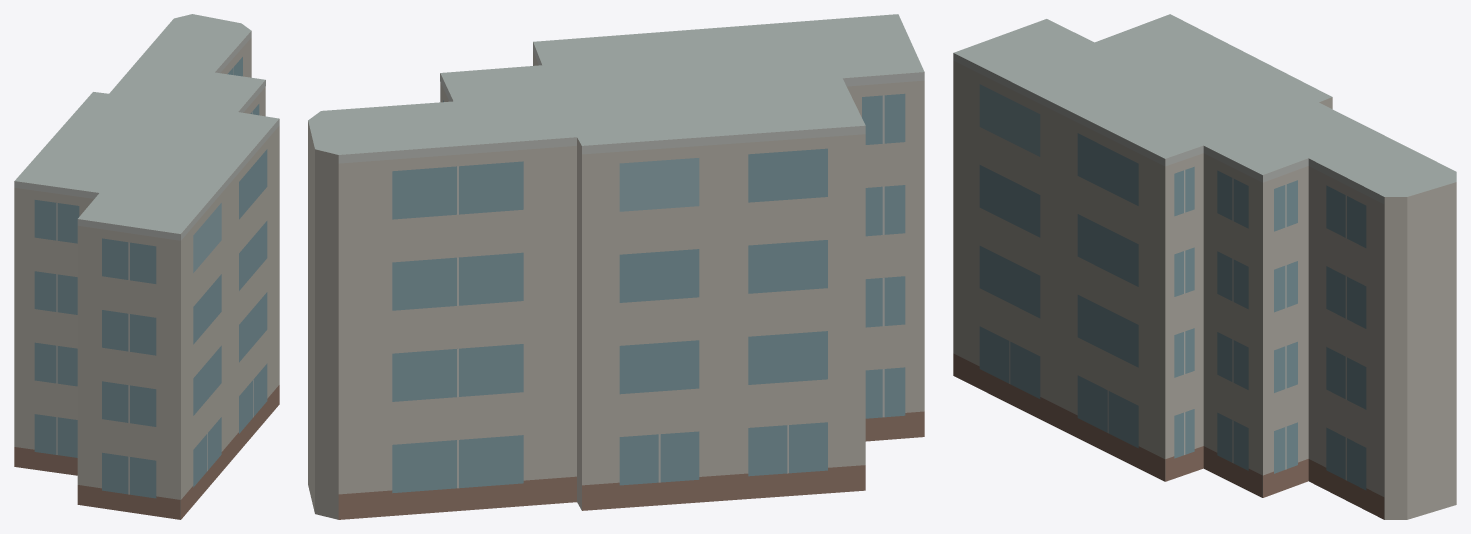
Rendered from survey-upis-32998575.glb.
The picture shows the model from 3 angles, left to right: view 1: azimuth 30°, elevation 25°; view 2: azimuth 150°, elevation 25°; view 3: azimuth 270°, elevation 25°; orthographic projection. The views are drawn at different scales.
Visible parts, largest first — view 1: survey-upis-32998575.tmp; view 2: survey-upis-32998575.tmp; view 3: survey-upis-32998575.tmp.
Boxes of the visible parts, box(x1,y1,x2,y2) form: survey-upis-32998575.tmp: box(14, 14, 279, 519); survey-upis-32998575.tmp: box(308, 14, 924, 519); survey-upis-32998575.tmp: box(953, 14, 1456, 519).
Size of the model in its own units: 12.65 by 10.4 by 14.7.
